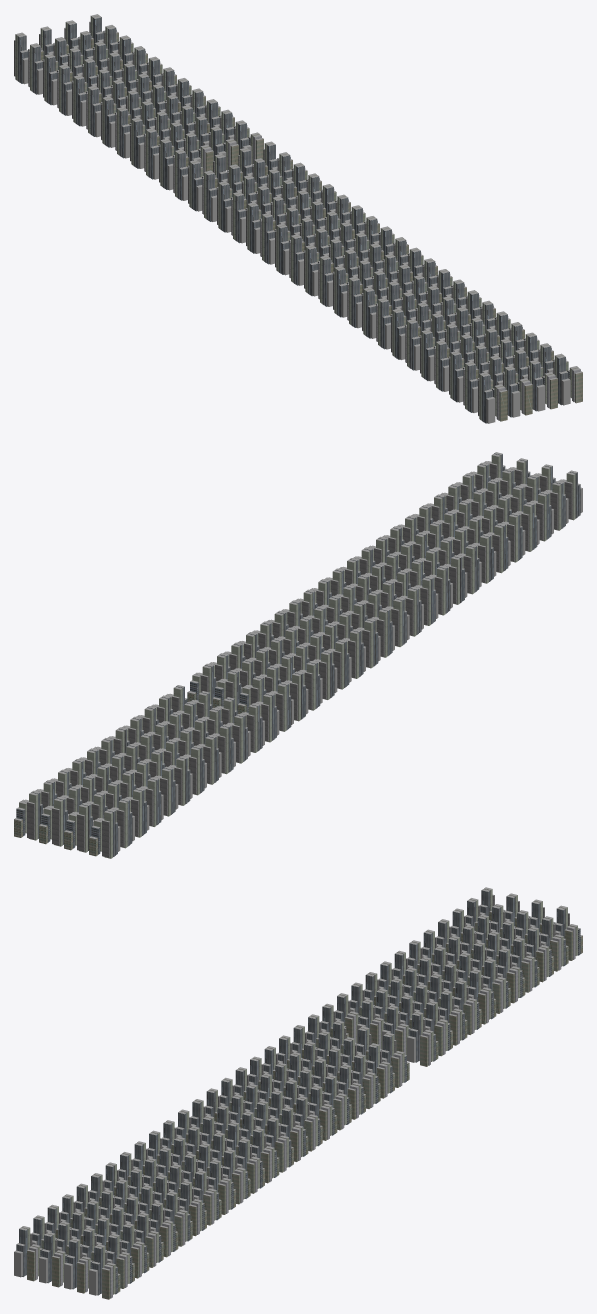
File: map.obj
3 views of the same model, one above another, from view 1: azimuth 30°, elevation 25°; view 2: azimuth 150°, elevation 25°; view 3: azimuth 330°, elevation 25° (orthographic).
Visible parts, largest first — view 1: batiments.451_Cube.1242_Cube.047, batiments.099_Cube.1242_Cube.047, batiments.307_Cube.1242_Cube.047, batiments.015_Cube.1242_Cube.047, batiments.789_Cube.1242_Cube.047, batiments.700_Cube.1242_Cube.047, batiments.869_Cube.1242_Cube.047, batiments.712_Cube.1242_Cube.047, batiments.676_Cube.1242_Cube.047, batiments.664_Cube.1242_Cube.047, batiments.393_Cube.1242_Cube.047, batiments.360_Cube.1242_Cube.047 (+27 smaller); view 2: batiments.333_Cube.1242_Cube.047, batiments.125_Cube.1242_Cube.047, batiments.477_Cube.1242_Cube.047, batiments.013_Cube.1242_Cube.047, batiments.925_Cube.1242_Cube.047, batiments.401_Cube.1242_Cube.047, batiments.393_Cube.1242_Cube.047, batiments.800_Cube.1242_Cube.047, batiments.364_Cube.1242_Cube.047, batiments.700_Cube.1242_Cube.047, batiments.676_Cube.1242_Cube.047, batiments.059_Cube.1242_Cube.047 (+27 smaller); view 3: batiments.015_Cube.1242_Cube.047, batiments.115_Cube.1242_Cube.047, batiments.307_Cube.1242_Cube.047, batiments.099_Cube.1242_Cube.047, batiments.451_Cube.1242_Cube.047, batiments.318_Cube.1242_Cube.047, batiments.055_Cube.1242_Cube.047, batiments.154_Cube.1242_Cube.047, batiments.058_Cube.1242_Cube.047, batiments.151_Cube.1242_Cube.047, batiments.466_Cube.1242_Cube.047, batiments.020_Cube.1242_Cube.047 (+26 smaller).
Boxes of the visible parts, x1,y1,x2,y2 form: batiments.451_Cube.1242_Cube.047: (478, 372, 507, 423); batiments.099_Cube.1242_Cube.047: (503, 366, 532, 417); batiments.307_Cube.1242_Cube.047: (528, 360, 557, 411); batiments.015_Cube.1242_Cube.047: (553, 353, 582, 405); batiments.789_Cube.1242_Cube.047: (209, 126, 238, 170); batiments.700_Cube.1242_Cube.047: (101, 96, 130, 147); batiments.869_Cube.1242_Cube.047: (144, 128, 174, 179); batiments.712_Cube.1242_Cube.047: (217, 181, 246, 232); batiments.676_Cube.1242_Cube.047: (449, 351, 478, 402); batiments.664_Cube.1242_Cube.047: (333, 266, 362, 317); batiments.393_Cube.1242_Cube.047: (72, 75, 101, 126); batiments.360_Cube.1242_Cube.047: (362, 287, 391, 338); batiments.333_Cube.1242_Cube.047: (89, 809, 120, 858); batiments.125_Cube.1242_Cube.047: (64, 803, 93, 852); batiments.477_Cube.1242_Cube.047: (39, 797, 68, 846); batiments.013_Cube.1242_Cube.047: (14, 790, 43, 840); batiments.925_Cube.1242_Cube.047: (312, 650, 337, 699); batiments.401_Cube.1242_Cube.047: (500, 512, 525, 562); batiments.393_Cube.1242_Cube.047: (153, 766, 178, 816); batiments.800_Cube.1242_Cube.047: (471, 534, 496, 583); batiments.364_Cube.1242_Cube.047: (211, 724, 235, 774); batiments.700_Cube.1242_Cube.047: (182, 745, 206, 795); batiments.676_Cube.1242_Cube.047: (529, 491, 553, 541); batiments.059_Cube.1242_Cube.047: (187, 663, 217, 707); batiments.015_Cube.1242_Cube.047: (89, 1244, 120, 1299); batiments.115_Cube.1242_Cube.047: (407, 1011, 438, 1066); batiments.307_Cube.1242_Cube.047: (64, 1238, 92, 1293); batiments.099_Cube.1242_Cube.047: (39, 1232, 67, 1287); batiments.451_Cube.1242_Cube.047: (14, 1226, 42, 1281); batiments.318_Cube.1242_Cube.047: (309, 1085, 337, 1140); batiments.055_Cube.1242_Cube.047: (150, 1202, 178, 1257); batiments.154_Cube.1242_Cube.047: (468, 969, 496, 1024); batiments.058_Cube.1242_Cube.047: (497, 948, 525, 1003); batiments.151_Cube.1242_Cube.047: (121, 1223, 149, 1278); batiments.466_Cube.1242_Cube.047: (511, 937, 539, 992); batiments.020_Cube.1242_Cube.047: (324, 1075, 351, 1130).
Bounding box in the file's own units: 13.58 × 6.17 × 117.
20 materials, 10 textured.
